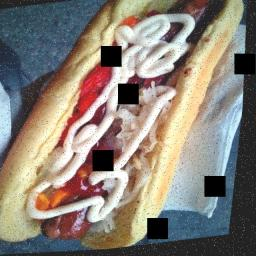hotdog: (48, 142, 134, 244), (150, 0, 220, 52)
